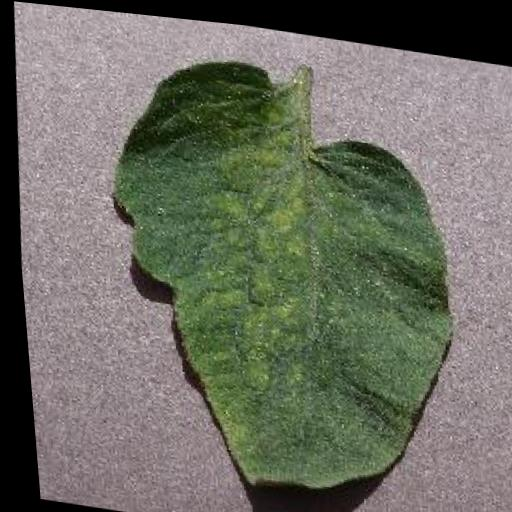Spider Mites: (88, 37, 473, 512)
